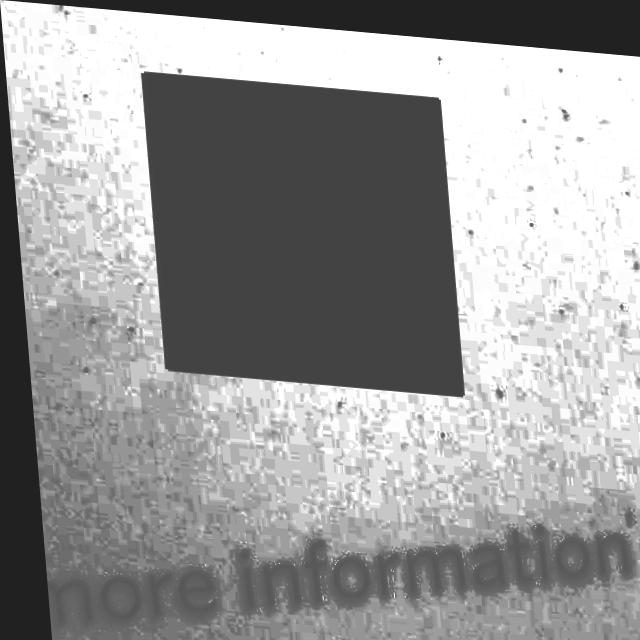qr_code: (141, 70, 458, 388)
